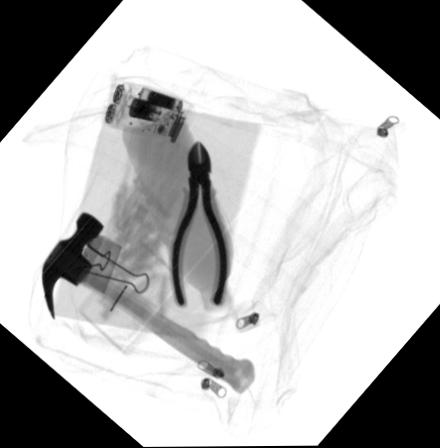Hammer: (39, 211, 255, 395)
Pliers: (168, 141, 225, 305)
